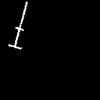double_crochet: (9, 2, 26, 48)
